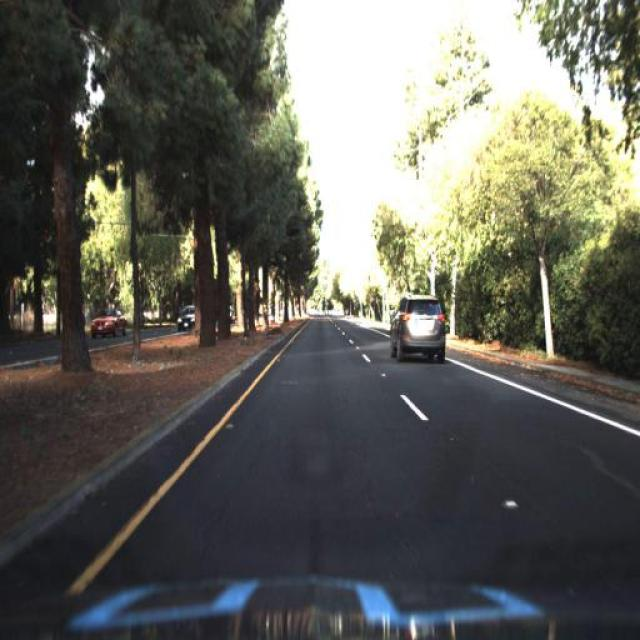car: (390, 294, 445, 364), (87, 302, 127, 342), (171, 303, 201, 335)
